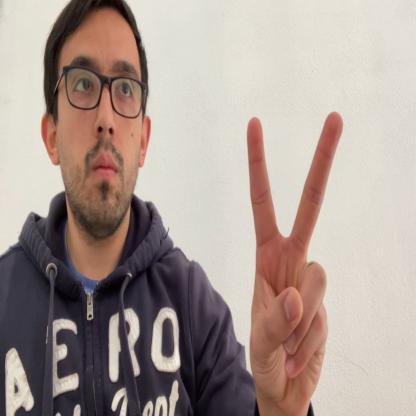V: (246, 112, 343, 409)
